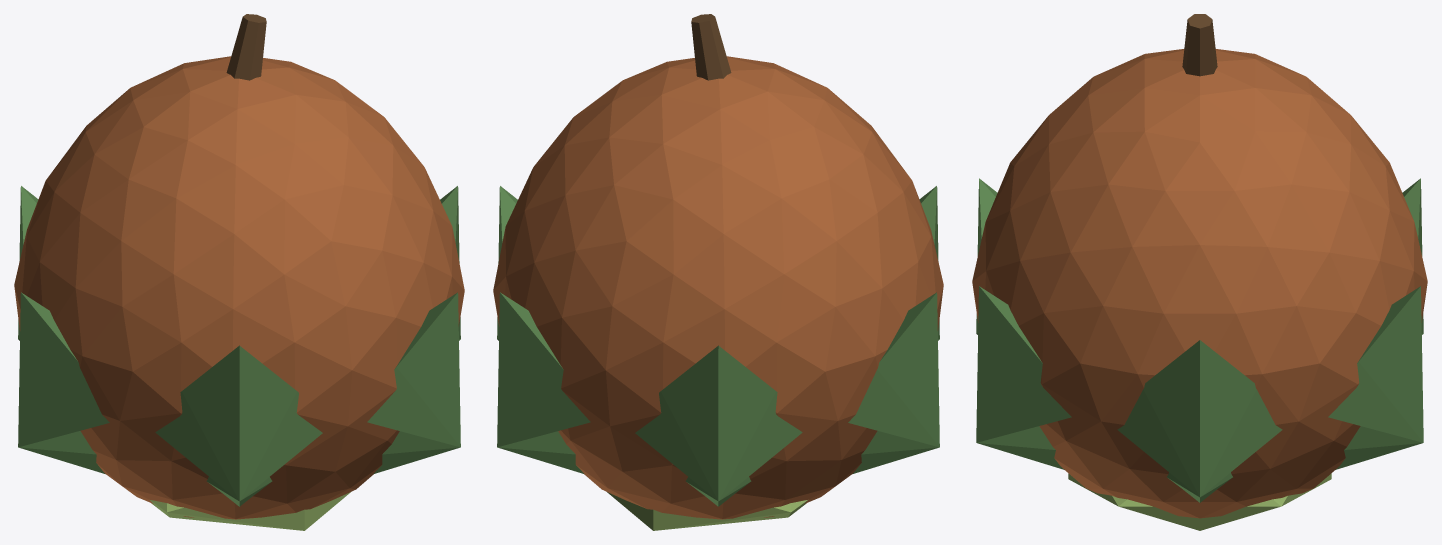
The model's file is Hazelfruit.glb.
3 renders of one model, left to right at view 1: azimuth 30°, elevation 25°; view 2: azimuth 150°, elevation 25°; view 3: azimuth 270°, elevation 25°, orthographic.
Parts seen in each view (by area): view 1: Hazelfruit_HazelfruitShell, Hazelfruit_HazelfruitHusk, Hazelfruit_HazelHuskEdges, Hazelfruit_HazelfruitStem; view 2: Hazelfruit_HazelfruitShell, Hazelfruit_HazelfruitHusk, Hazelfruit_HazelHuskEdges, Hazelfruit_HazelfruitStem; view 3: Hazelfruit_HazelfruitShell, Hazelfruit_HazelfruitHusk, Hazelfruit_HazelHuskEdges, Hazelfruit_HazelfruitStem.
Part boxes in pixels (x1=…): Hazelfruit_HazelfruitShell: x1=14, y1=56, x2=464, y2=519; Hazelfruit_HazelfruitHusk: x1=18, y1=186, x2=460, y2=506; Hazelfruit_HazelHuskEdges: x1=150, y1=492, x2=350, y2=530; Hazelfruit_HazelfruitStem: x1=226, y1=14, x2=266, y2=80; Hazelfruit_HazelfruitShell: x1=493, y1=56, x2=943, y2=519; Hazelfruit_HazelfruitHusk: x1=497, y1=186, x2=939, y2=506; Hazelfruit_HazelHuskEdges: x1=607, y1=492, x2=807, y2=530; Hazelfruit_HazelfruitStem: x1=691, y1=14, x2=731, y2=80; Hazelfruit_HazelfruitShell: x1=972, y1=49, x2=1427, y2=518; Hazelfruit_HazelfruitHusk: x1=976, y1=178, x2=1423, y2=502; Hazelfruit_HazelHuskEdges: x1=1068, y1=473, x2=1331, y2=530; Hazelfruit_HazelfruitStem: x1=1182, y1=14, x2=1217, y2=76.
Size of the model in its own units: 1.13 by 1.19 by 1.
